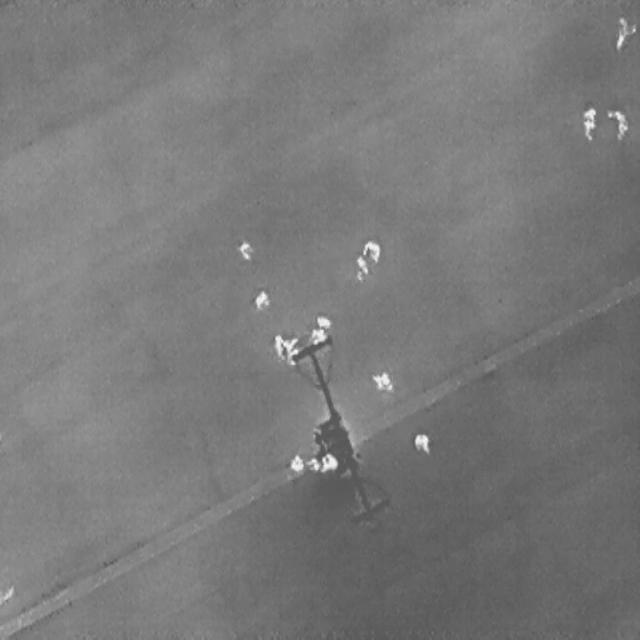Person: (367, 364, 397, 396), (614, 14, 634, 51), (606, 105, 627, 140), (359, 235, 383, 263), (581, 105, 596, 140), (281, 335, 298, 365), (354, 255, 368, 281), (309, 326, 328, 344), (413, 432, 429, 452), (321, 451, 337, 471), (289, 452, 304, 472), (315, 311, 331, 329), (254, 288, 268, 308), (238, 239, 251, 259), (272, 332, 282, 357)
